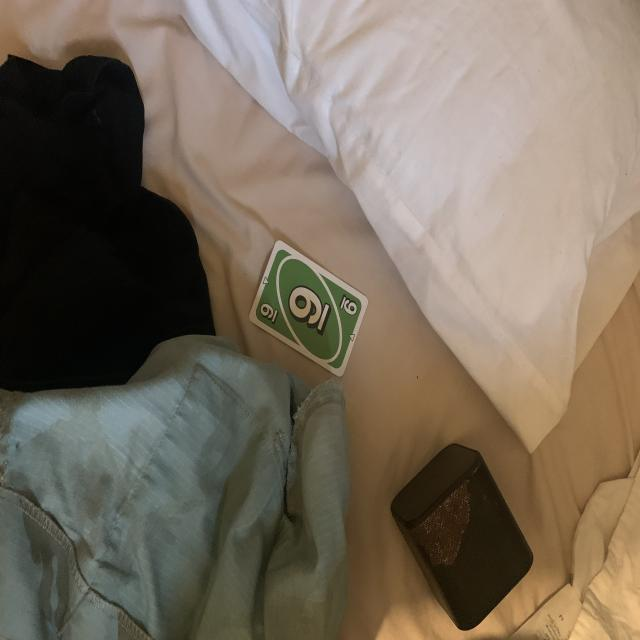lgreen-9: (257, 301, 281, 326)
